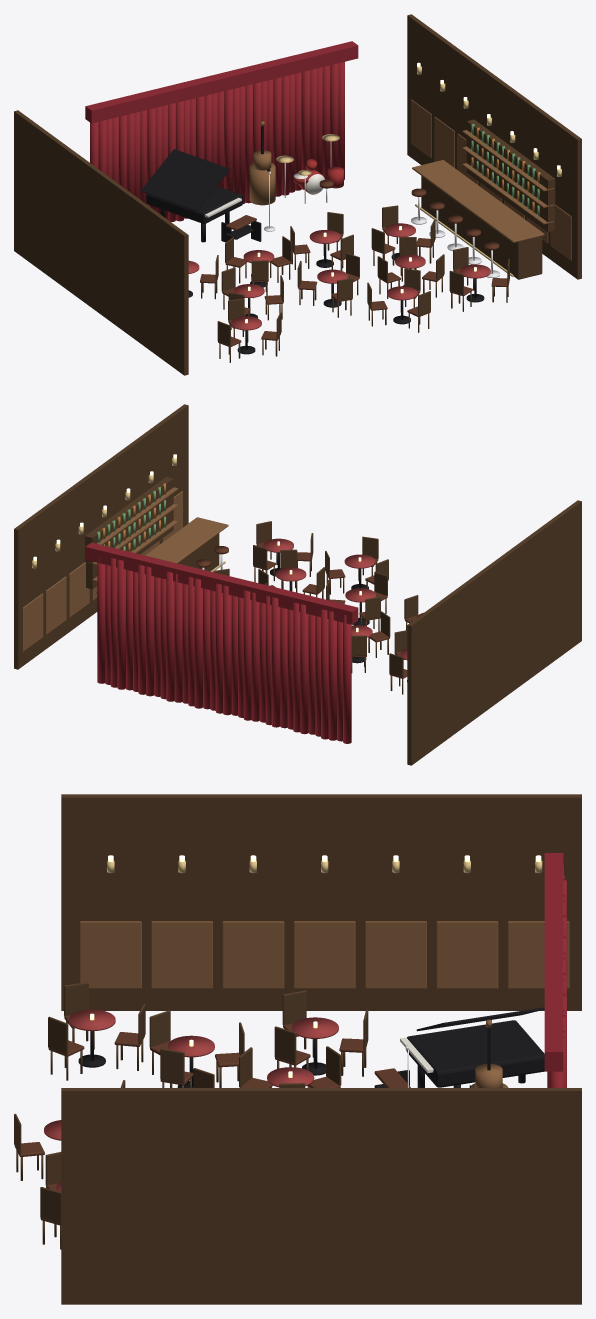
Rendered from jazzclub.glb.
The picture shows the model from 3 angles, top to bottom: view 1: azimuth 30°, elevation 25°; view 2: azimuth 150°, elevation 25°; view 3: azimuth 270°, elevation 25°; orthographic projection. The views are drawn at different scales.
Visible parts, largest first — view 1: wall, wall.001, pelmet, bar_counter, bar_shelf, bar_top, piano_lid, piano_body, curtain.027, curtain.026, bass_body, curtain.030 (+28 smaller); view 2: wall, wall.001, pelmet, bar_shelf, bar_top, curtain.010, curtain.014, curtain.025, curtain.032, curtain.021, curtain.006, curtain.017 (+33 smaller); view 3: wall.001, wall, piano_body, pelmet, panel.003, panel.004, panel.001, panel.002, panel.005, panel.006, panel, table_top (+10 smaller).
Part boxes in pixels (box(x1,y1,x2,y2)): wall: box(14, 110, 188, 375); wall.001: box(407, 14, 581, 279); pelmet: box(85, 41, 358, 123); bar_counter: box(421, 176, 542, 279); bar_shelf: box(466, 119, 555, 231); bar_top: box(412, 160, 544, 242); piano_lid: box(141, 149, 230, 211); piano_body: box(146, 186, 242, 223); curtain.027: box(281, 75, 289, 195); curtain.026: box(273, 77, 281, 196); bass_body: box(249, 163, 275, 205); curtain.030: box(301, 70, 310, 189); wall: box(407, 500, 581, 765); wall.001: box(14, 404, 188, 669); pelmet: box(85, 542, 358, 624); bar_shelf: box(85, 477, 173, 589); bar_top: box(96, 517, 228, 592); curtain.010: box(271, 597, 280, 727); curtain.014: box(243, 590, 251, 720); curtain.025: box(166, 571, 174, 701); curtain.032: box(117, 559, 125, 689); curtain.021: box(194, 578, 202, 708); curtain.006: box(300, 604, 308, 734); curtain.017: box(223, 585, 231, 715); wall.001: box(61, 1088, 581, 1304); wall: box(61, 794, 581, 1010); piano_body: box(406, 1020, 544, 1087); pelmet: box(544, 853, 563, 1071); panel.003: box(293, 921, 355, 988); panel.004: box(222, 921, 284, 988); panel.001: box(436, 921, 498, 988); panel.002: box(365, 921, 426, 988); panel.005: box(151, 921, 212, 988); panel.006: box(80, 921, 141, 988); panel: box(507, 921, 569, 988); table_top: box(292, 1017, 338, 1038).
Bounding box in the file's own units: 11.32 × 3.8 × 9.16.
